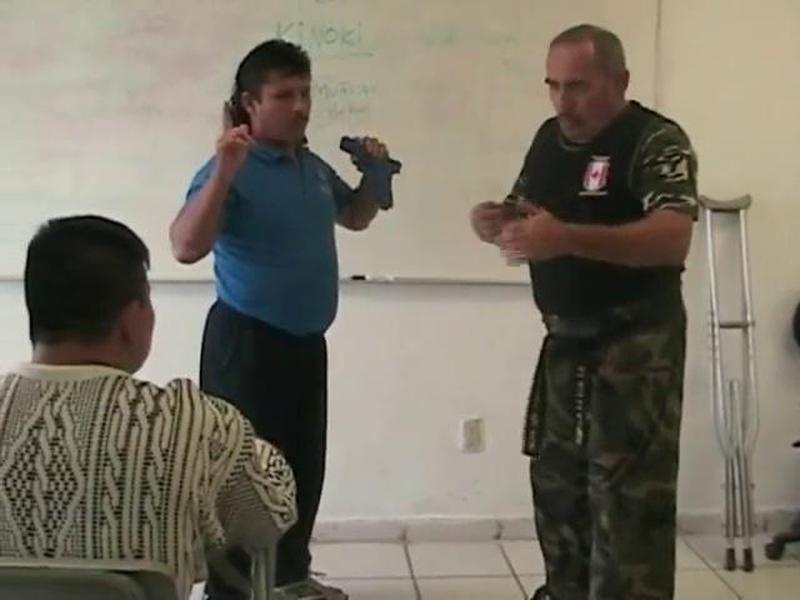Pistola: (332, 123, 411, 224)
